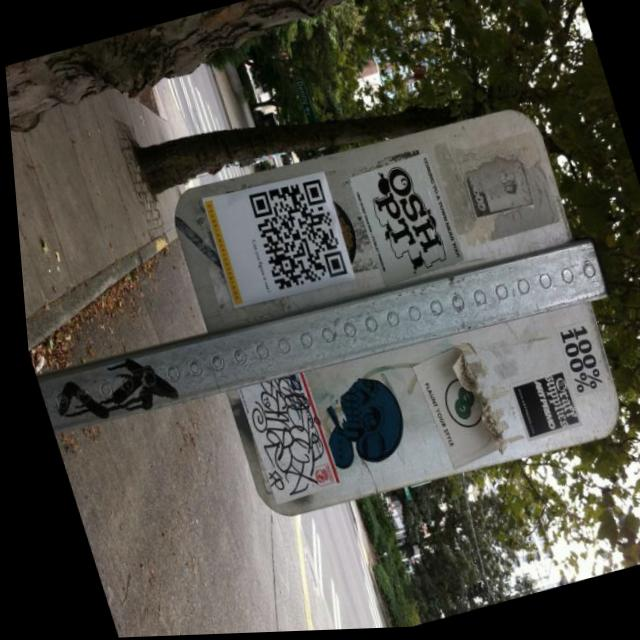qrcode: (243, 180, 344, 295)
